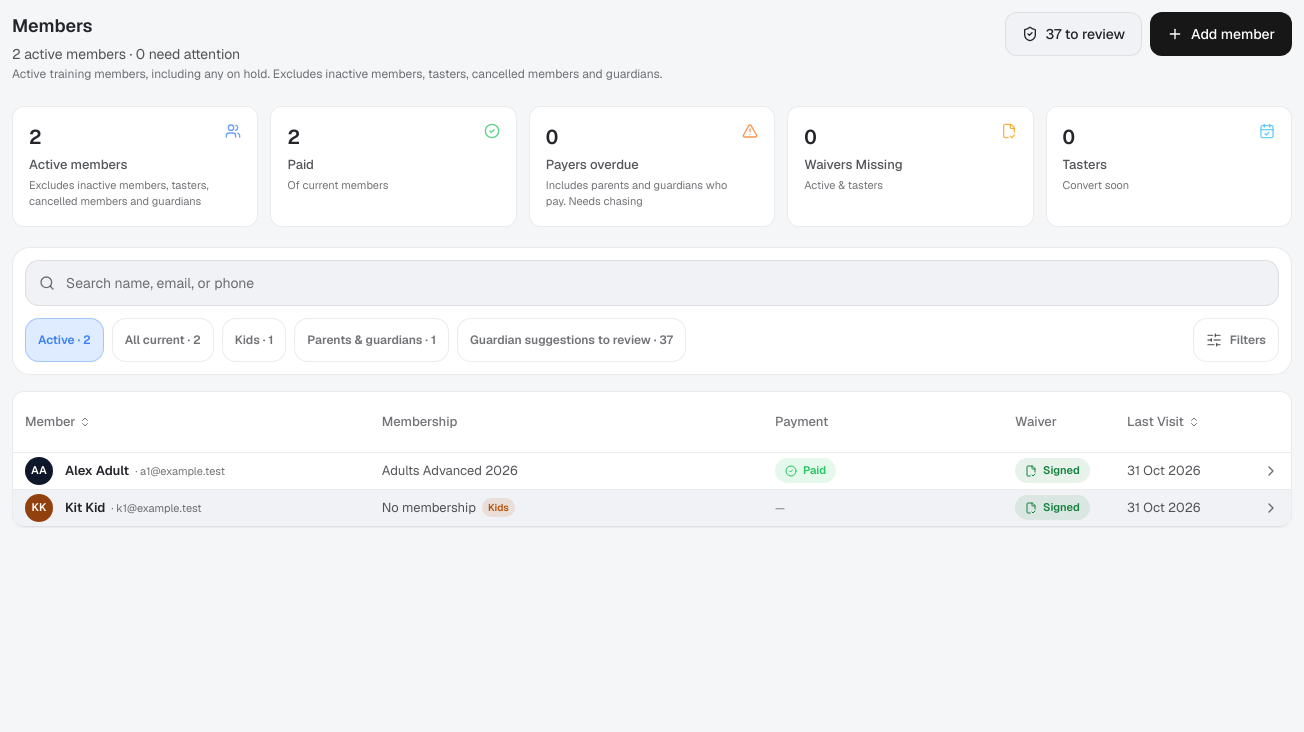
Test: Members page — guardian suggestions to review › an owner sees 'N to review' and it opens the review queue
Step 1. Click the button with aria-label "37 guardian suggestions to review" → point(1073, 34), box [1004,12,1142,56]
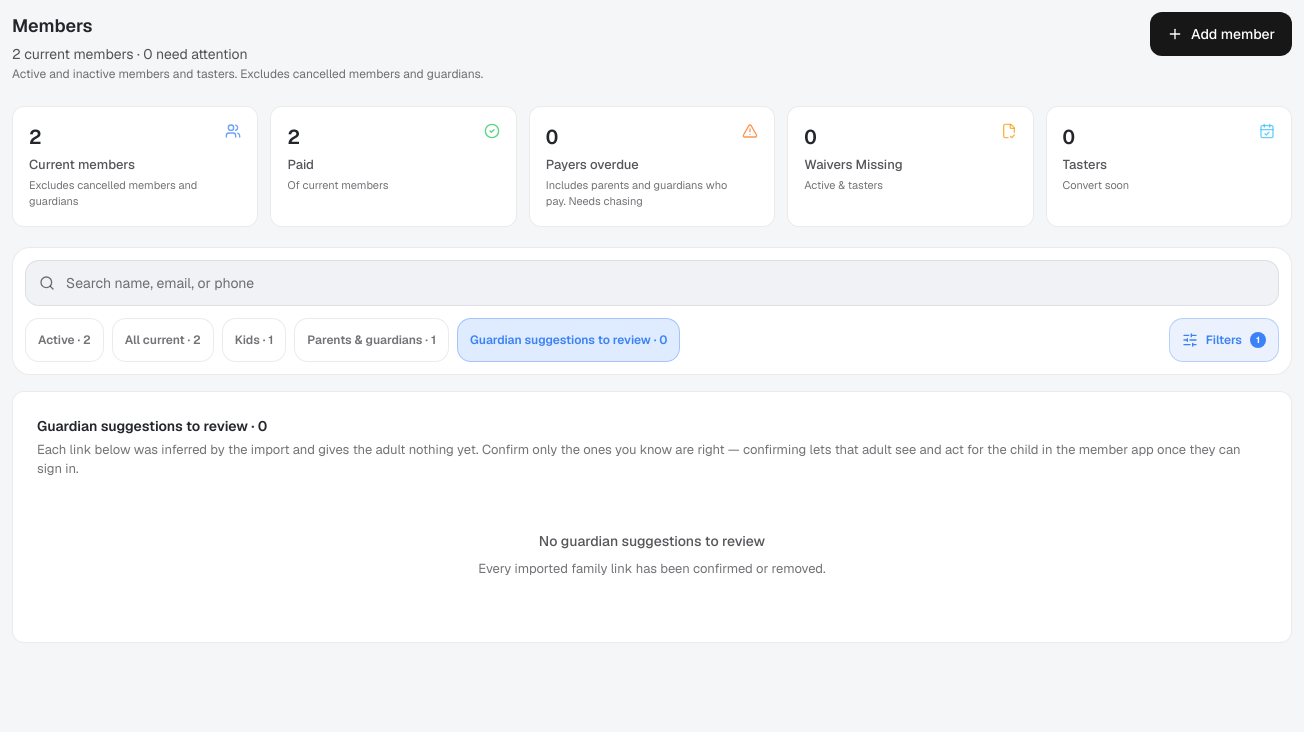
Check: the text "No guardian suggestions to review" is shown, box [539,530,765,550]
Check: the text "Alex Adult" is not shown
